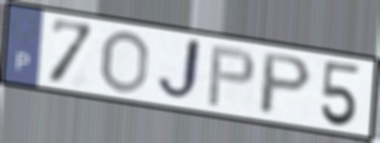5: (319, 59, 362, 129)
7: (48, 17, 96, 87)
J: (154, 35, 205, 105)
O: (97, 28, 151, 95)
P: (255, 50, 315, 118), (204, 44, 258, 110)
